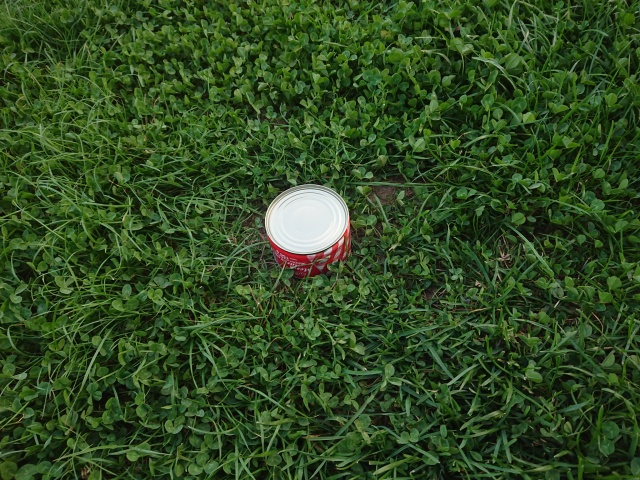Podravka Luncheon Meat 150g: (263, 181, 355, 281)
